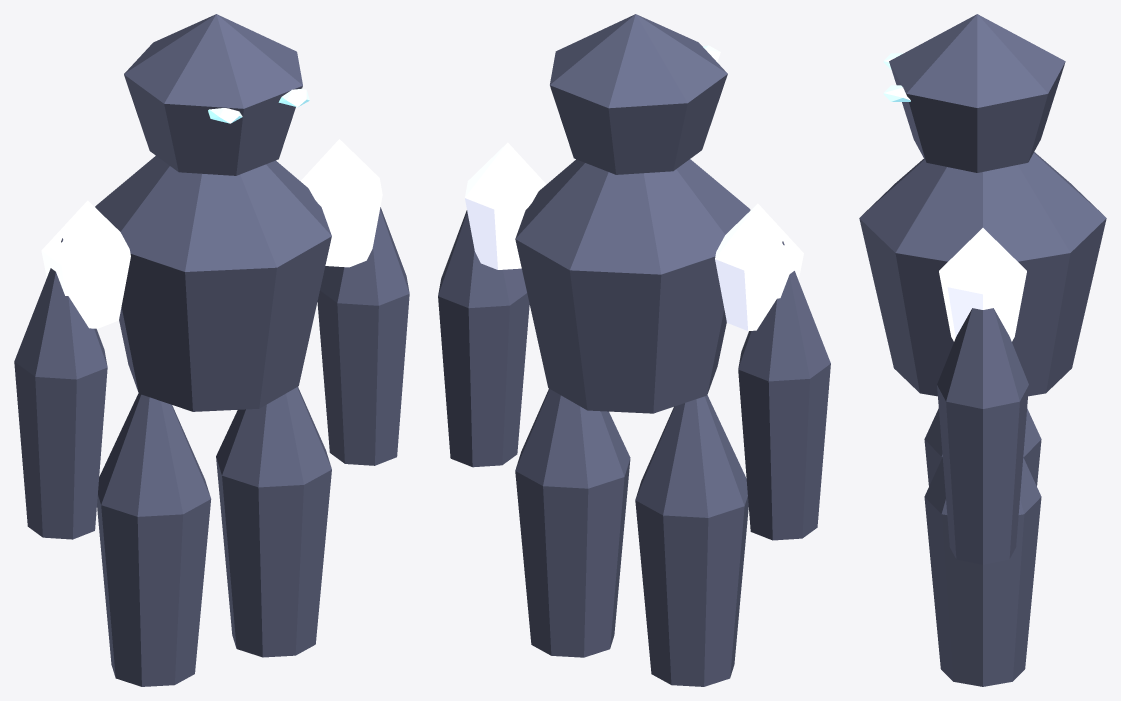
Rendered from deep-fracture-creature-StoneSentinel-storm.glb.
3 views of the same model, side by side, from view 1: azimuth 30°, elevation 25°; view 2: azimuth 150°, elevation 25°; view 3: azimuth 270°, elevation 25° (orthographic). The views are drawn at different scales.
Visible parts, largest first — view 1: chest-block, leg-left, leg-right, head-block, arm-left, arm-right, armor-core-left, armor-core-right; view 2: chest-block, leg-left, leg-right, head-block, arm-left, arm-right, armor-core-left, armor-core-right; view 3: chest-block, head-block, arm-right, leg-right, armor-core-right, leg-left.
Boxes of the visible parts, box(x1,y1,x2,y2) form: chest-block: box(95, 156, 331, 411); leg-left: box(97, 393, 211, 686); leg-right: box(216, 387, 331, 657); head-block: box(124, 14, 302, 175); arm-left: box(14, 238, 107, 539); arm-right: box(317, 207, 409, 465); armor-core-left: box(41, 200, 130, 328); armor-core-right: box(300, 139, 382, 267); chest-block: box(515, 159, 750, 413); leg-left: box(635, 395, 748, 686); leg-right: box(515, 388, 630, 657); head-block: box(550, 14, 727, 174); arm-left: box(738, 241, 830, 540); arm-right: box(438, 210, 529, 467); armor-core-left: box(715, 203, 803, 330); armor-core-right: box(465, 142, 546, 269); chest-block: box(859, 152, 1106, 396); head-block: box(889, 14, 1065, 172); arm-right: box(937, 308, 1028, 564); leg-right: box(924, 457, 1041, 686); armor-core-right: box(939, 228, 1026, 341); leg-left: box(924, 408, 1041, 485).
Size of the model in its own units: 2.28 by 3.74 by 1.31.
